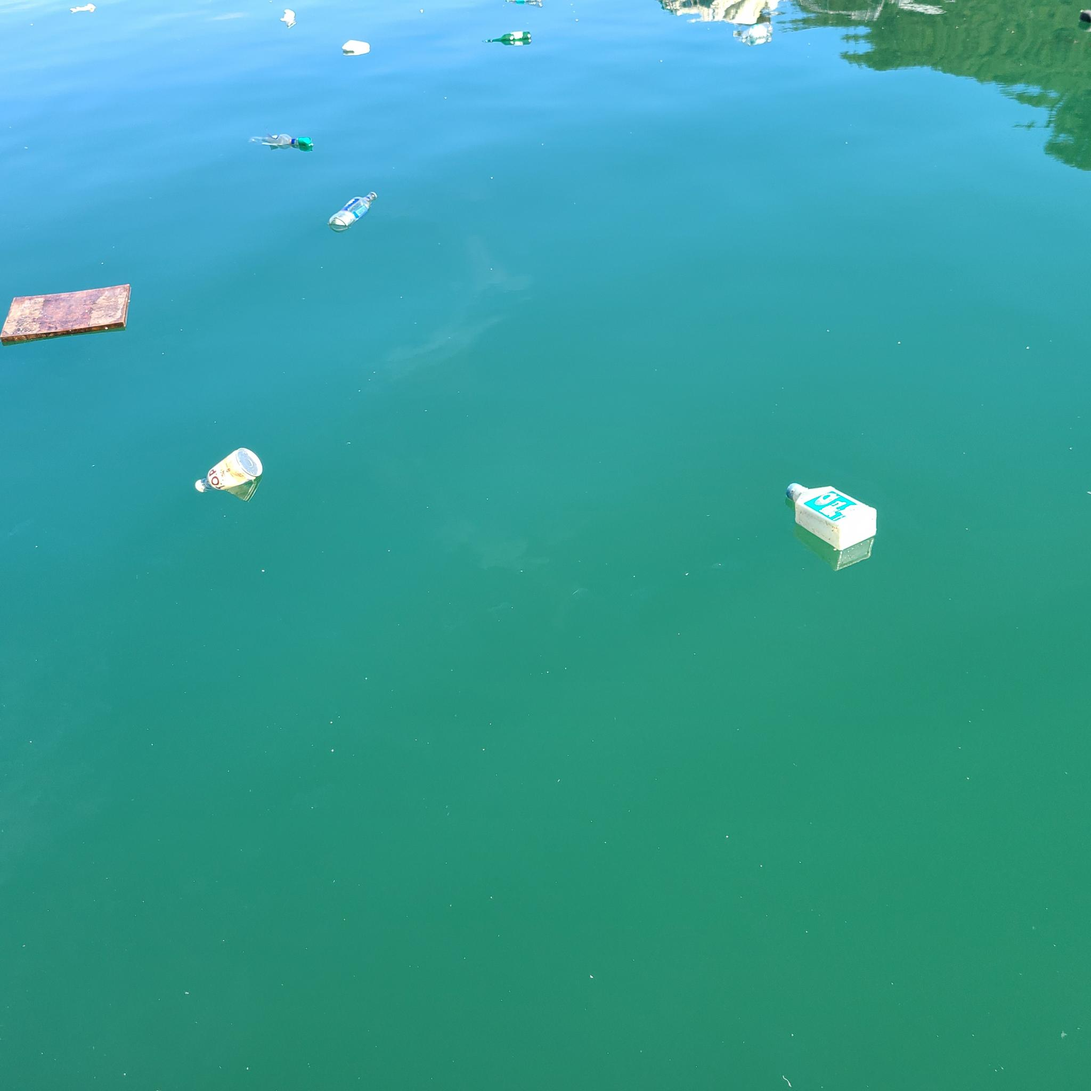sampah_terapung: (786, 483, 878, 552), (195, 448, 263, 493), (329, 192, 378, 233), (249, 135, 315, 147), (484, 31, 533, 43), (342, 40, 371, 57)
